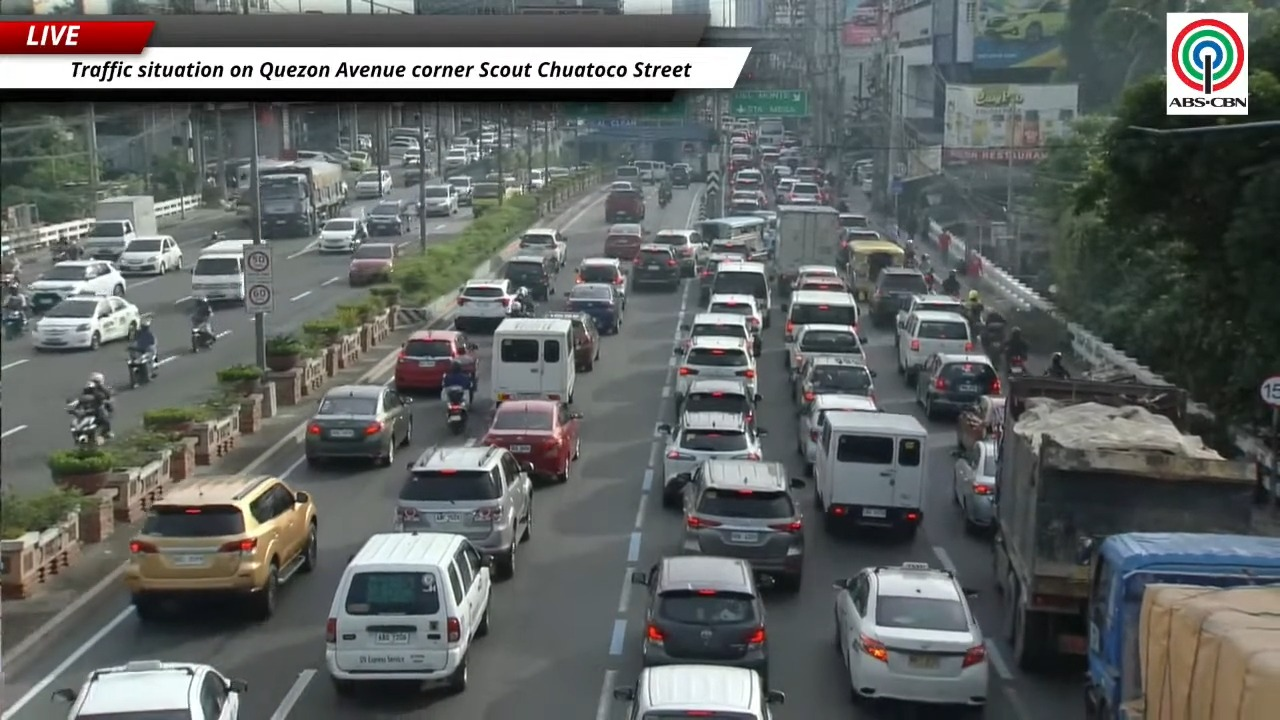car: (124, 475, 317, 621), (324, 532, 493, 696), (834, 563, 988, 706), (394, 445, 532, 577), (632, 556, 770, 678), (682, 459, 804, 591), (53, 660, 247, 719), (613, 663, 785, 719), (658, 412, 764, 501), (304, 385, 412, 465), (482, 400, 581, 483), (797, 394, 879, 474), (31, 295, 140, 349), (897, 310, 974, 386), (915, 352, 1000, 419), (675, 336, 757, 401), (393, 330, 477, 393), (26, 260, 126, 312), (794, 355, 875, 411), (953, 439, 997, 532), (674, 312, 760, 356), (678, 378, 760, 423), (894, 294, 963, 346), (787, 324, 865, 368), (542, 311, 599, 371), (870, 268, 928, 326), (454, 279, 515, 331), (565, 283, 624, 333), (503, 247, 558, 300), (957, 395, 1005, 451), (575, 257, 627, 308), (116, 236, 182, 274), (632, 243, 682, 291), (650, 229, 701, 276), (706, 293, 763, 333), (698, 252, 740, 304), (348, 243, 398, 286), (316, 217, 366, 252), (520, 228, 566, 266), (603, 220, 645, 261), (366, 199, 407, 235), (605, 187, 644, 222), (422, 184, 458, 216), (355, 170, 393, 197), (792, 274, 848, 292), (446, 175, 473, 205), (786, 180, 821, 203), (775, 177, 798, 204), (796, 264, 840, 278), (443, 148, 471, 169), (669, 163, 691, 187), (347, 150, 370, 171), (730, 197, 760, 213), (838, 213, 869, 228), (796, 166, 822, 183), (402, 149, 421, 167), (607, 180, 635, 191)
motorcycle: (68, 402, 105, 448), (444, 386, 468, 435), (127, 348, 154, 387), (191, 321, 216, 352), (3, 310, 27, 339), (51, 245, 82, 263), (1007, 356, 1026, 377), (658, 193, 670, 207)
truck: (994, 377, 1256, 671), (1085, 533, 1279, 719), (257, 160, 347, 237), (772, 206, 840, 297), (83, 195, 157, 261)
